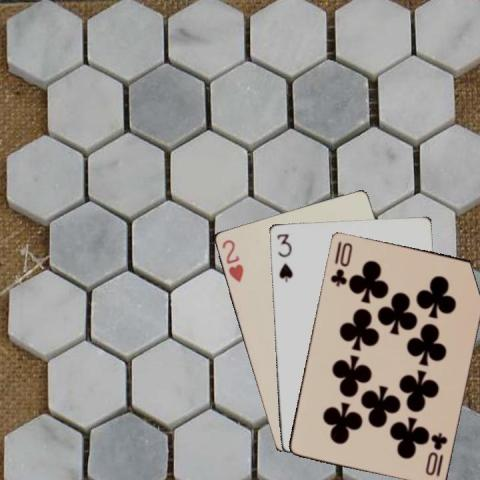10c: (327, 238, 354, 288), (422, 430, 449, 478)
2h: (218, 236, 244, 283)
3s: (274, 230, 294, 283)
